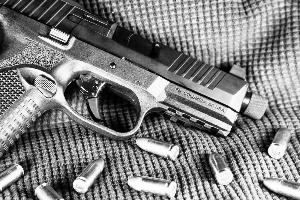handgun: (6, 5, 264, 143)
